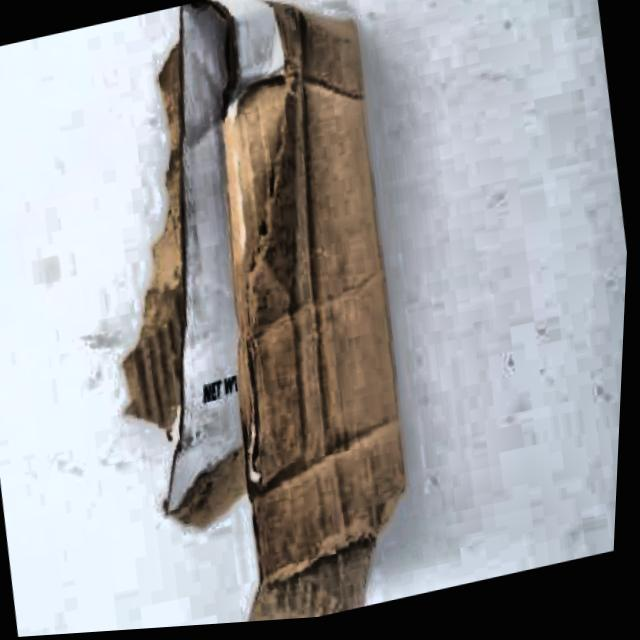Cardbox: (32, 0, 478, 637)
